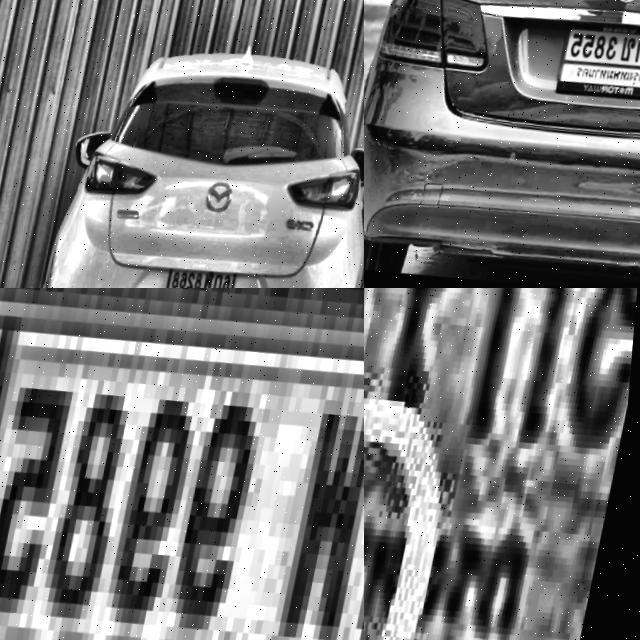license-plate: (0, 288, 364, 640), (364, 288, 640, 640), (561, 18, 640, 104), (166, 262, 246, 288)
